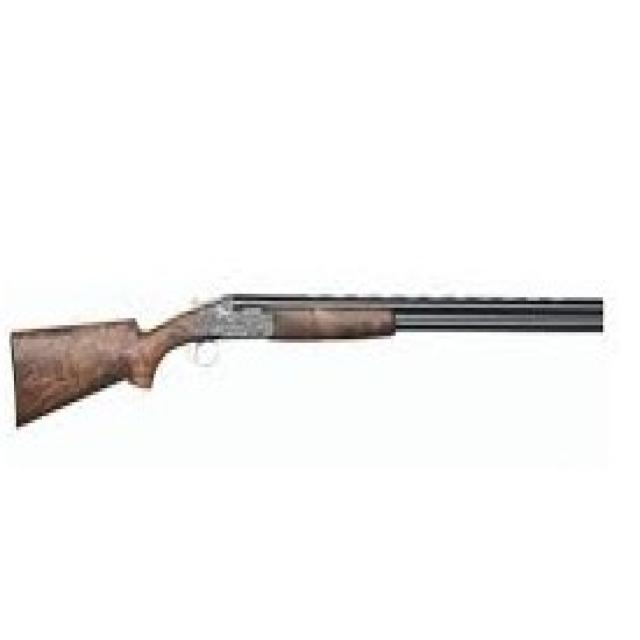rifle: (6, 281, 611, 444)
